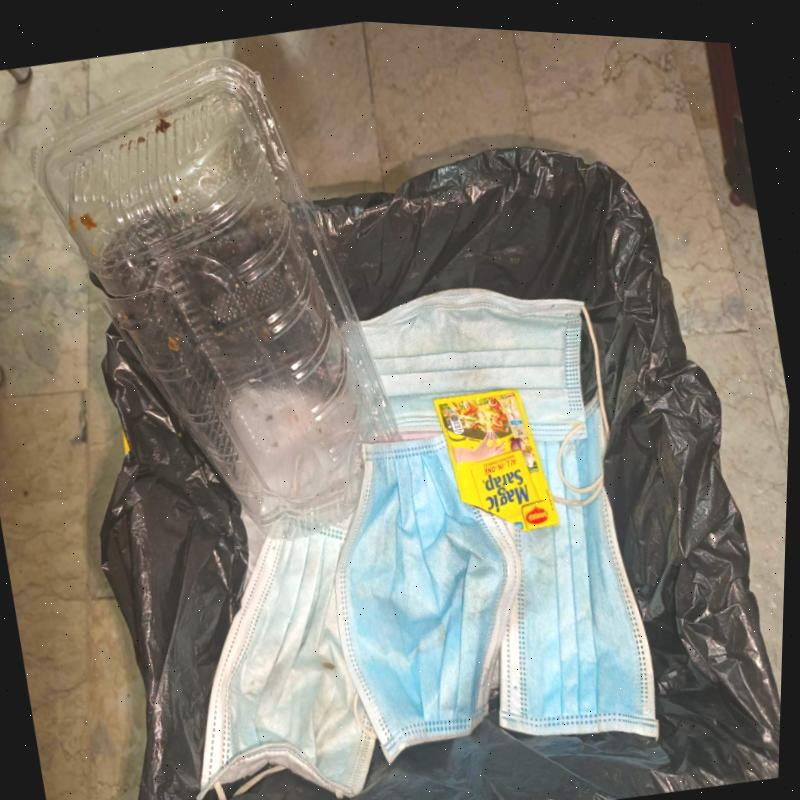facemask: (338, 437, 521, 765), (499, 398, 660, 741), (361, 288, 604, 495), (197, 527, 377, 800)
plastic container: (32, 58, 403, 539)
plastic sachet: (432, 388, 560, 532)
